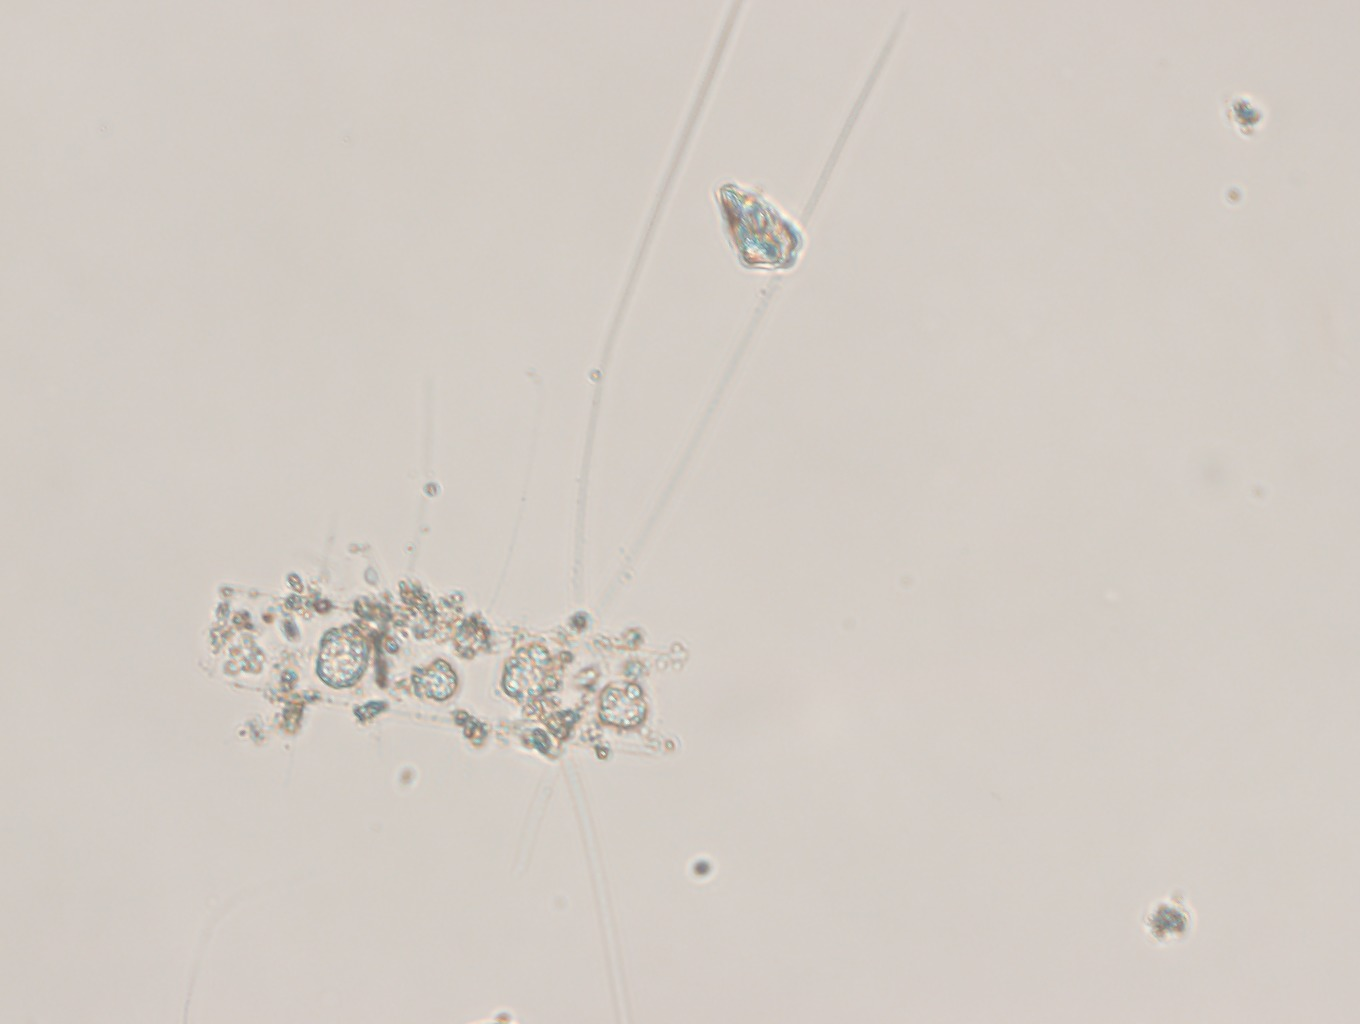chaetoceros: (196, 1, 906, 1024)
